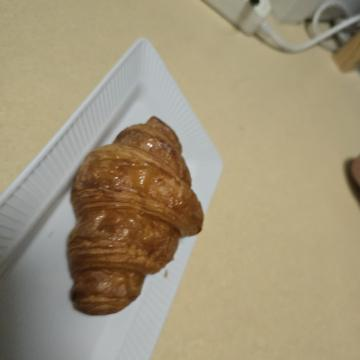croissant: (105, 144, 332, 304)
